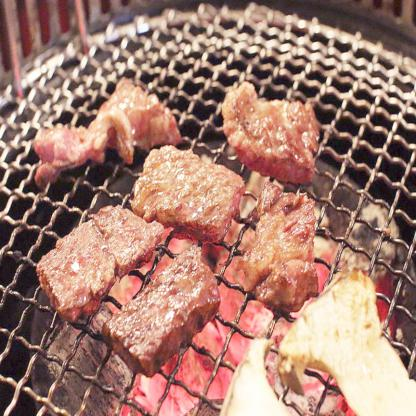Carne: (100, 240, 226, 374), (34, 207, 164, 312), (34, 80, 183, 164), (134, 145, 249, 237), (250, 178, 321, 310), (224, 79, 315, 177)
